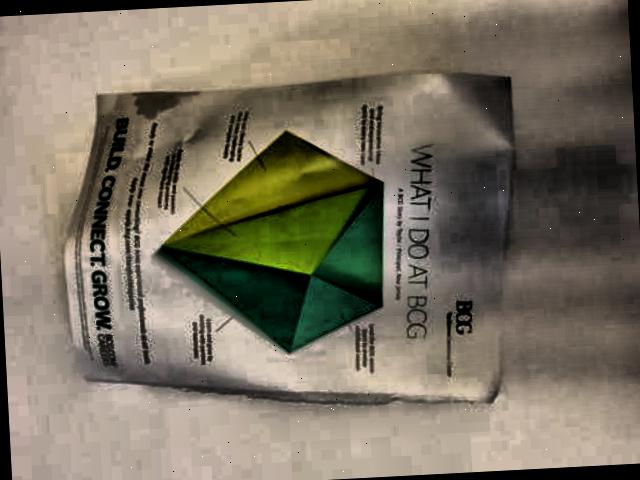Paper: (51, 67, 532, 430)
